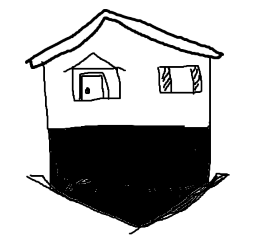open_window: (152, 57, 206, 101)
roof: (13, 7, 240, 75)
shadow: (21, 115, 240, 237)
wall: (42, 41, 215, 134)
